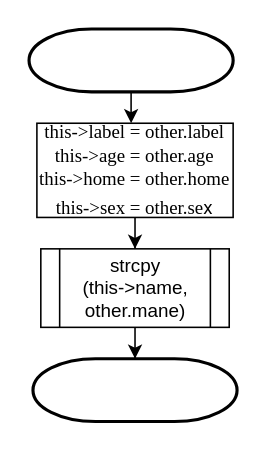
The diagram is 265 pixels wide and 449 high, and some of its shapes have lost their labels. The centre of each missing label's shape, as x and y in pixels:
"Basic (const Basic& other)" belongs at [130,60].
"Кінець" belongs at [134,389].
